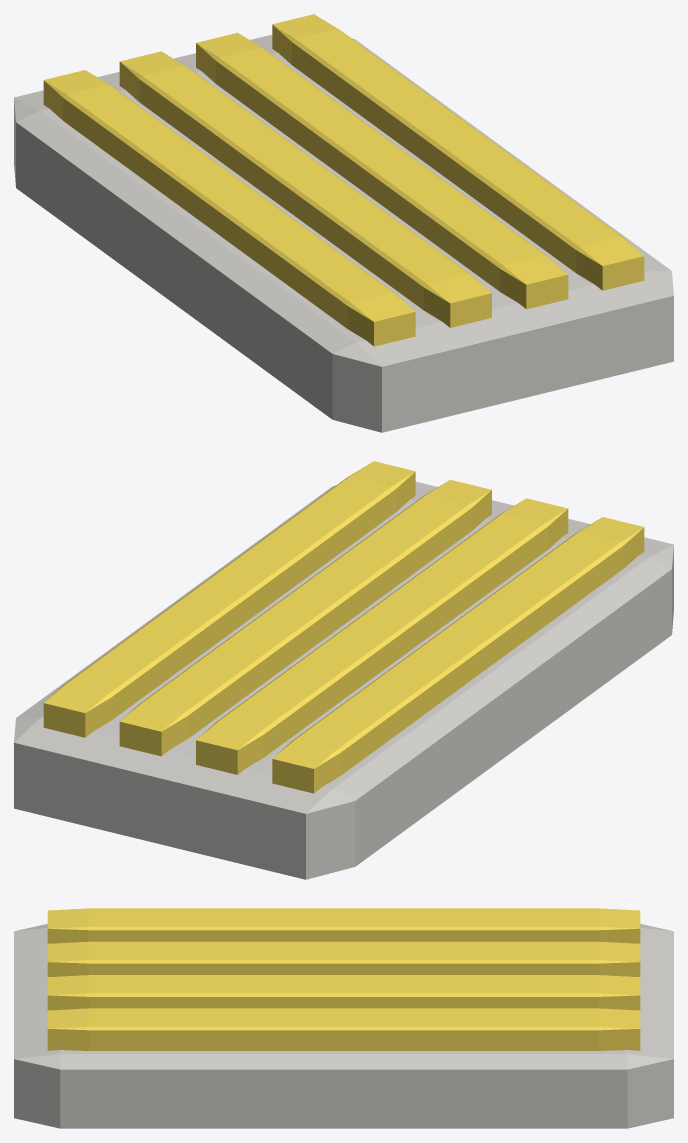
Rendered from b13_portable_rail_boarding_ramp.glb.
3 views of the same model, one above another, from view 1: azimuth 30°, elevation 25°; view 2: azimuth 150°, elevation 25°; view 3: azimuth 270°, elevation 25° (orthographic). The views are drawn at different scales.
Parts seen in each view (by area): view 1: b13_portable_rail_boarding_ramp; view 2: b13_portable_rail_boarding_ramp; view 3: b13_portable_rail_boarding_ramp.
Boxes of the visible parts, box(x1,y1,x2,y2) form: b13_portable_rail_boarding_ramp: box(14, 14, 673, 432); b13_portable_rail_boarding_ramp: box(14, 461, 673, 879); b13_portable_rail_boarding_ramp: box(14, 908, 673, 1128).
Size of the model in its own units: 1.16 by 0.334 by 2.18.
